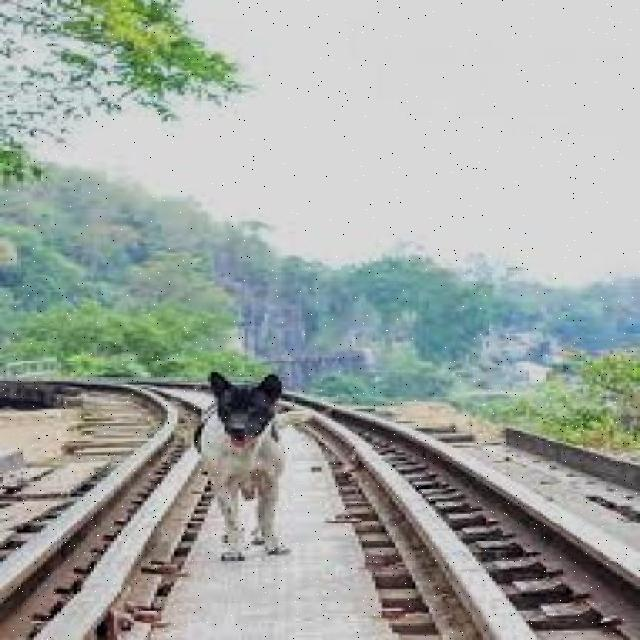danger: (202, 359, 318, 570)
rail: (0, 337, 637, 640)
